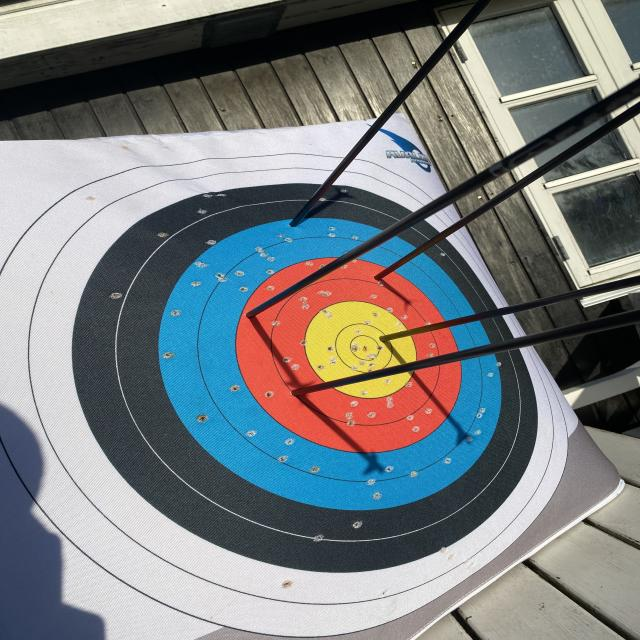Arrow_Blue: (269, 201, 318, 244)
Arrow_Red: (282, 370, 338, 422), (230, 294, 284, 336), (364, 259, 400, 293)
Arrow_Yellow: (365, 320, 421, 363)
